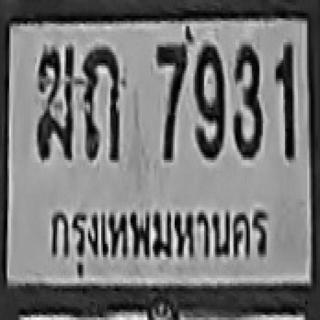A06: (35, 43, 74, 156)
N01: (274, 42, 292, 158)
N03: (232, 42, 263, 158)
N07: (155, 42, 187, 160)
N09: (193, 42, 222, 158)
P04: (43, 198, 274, 281)
